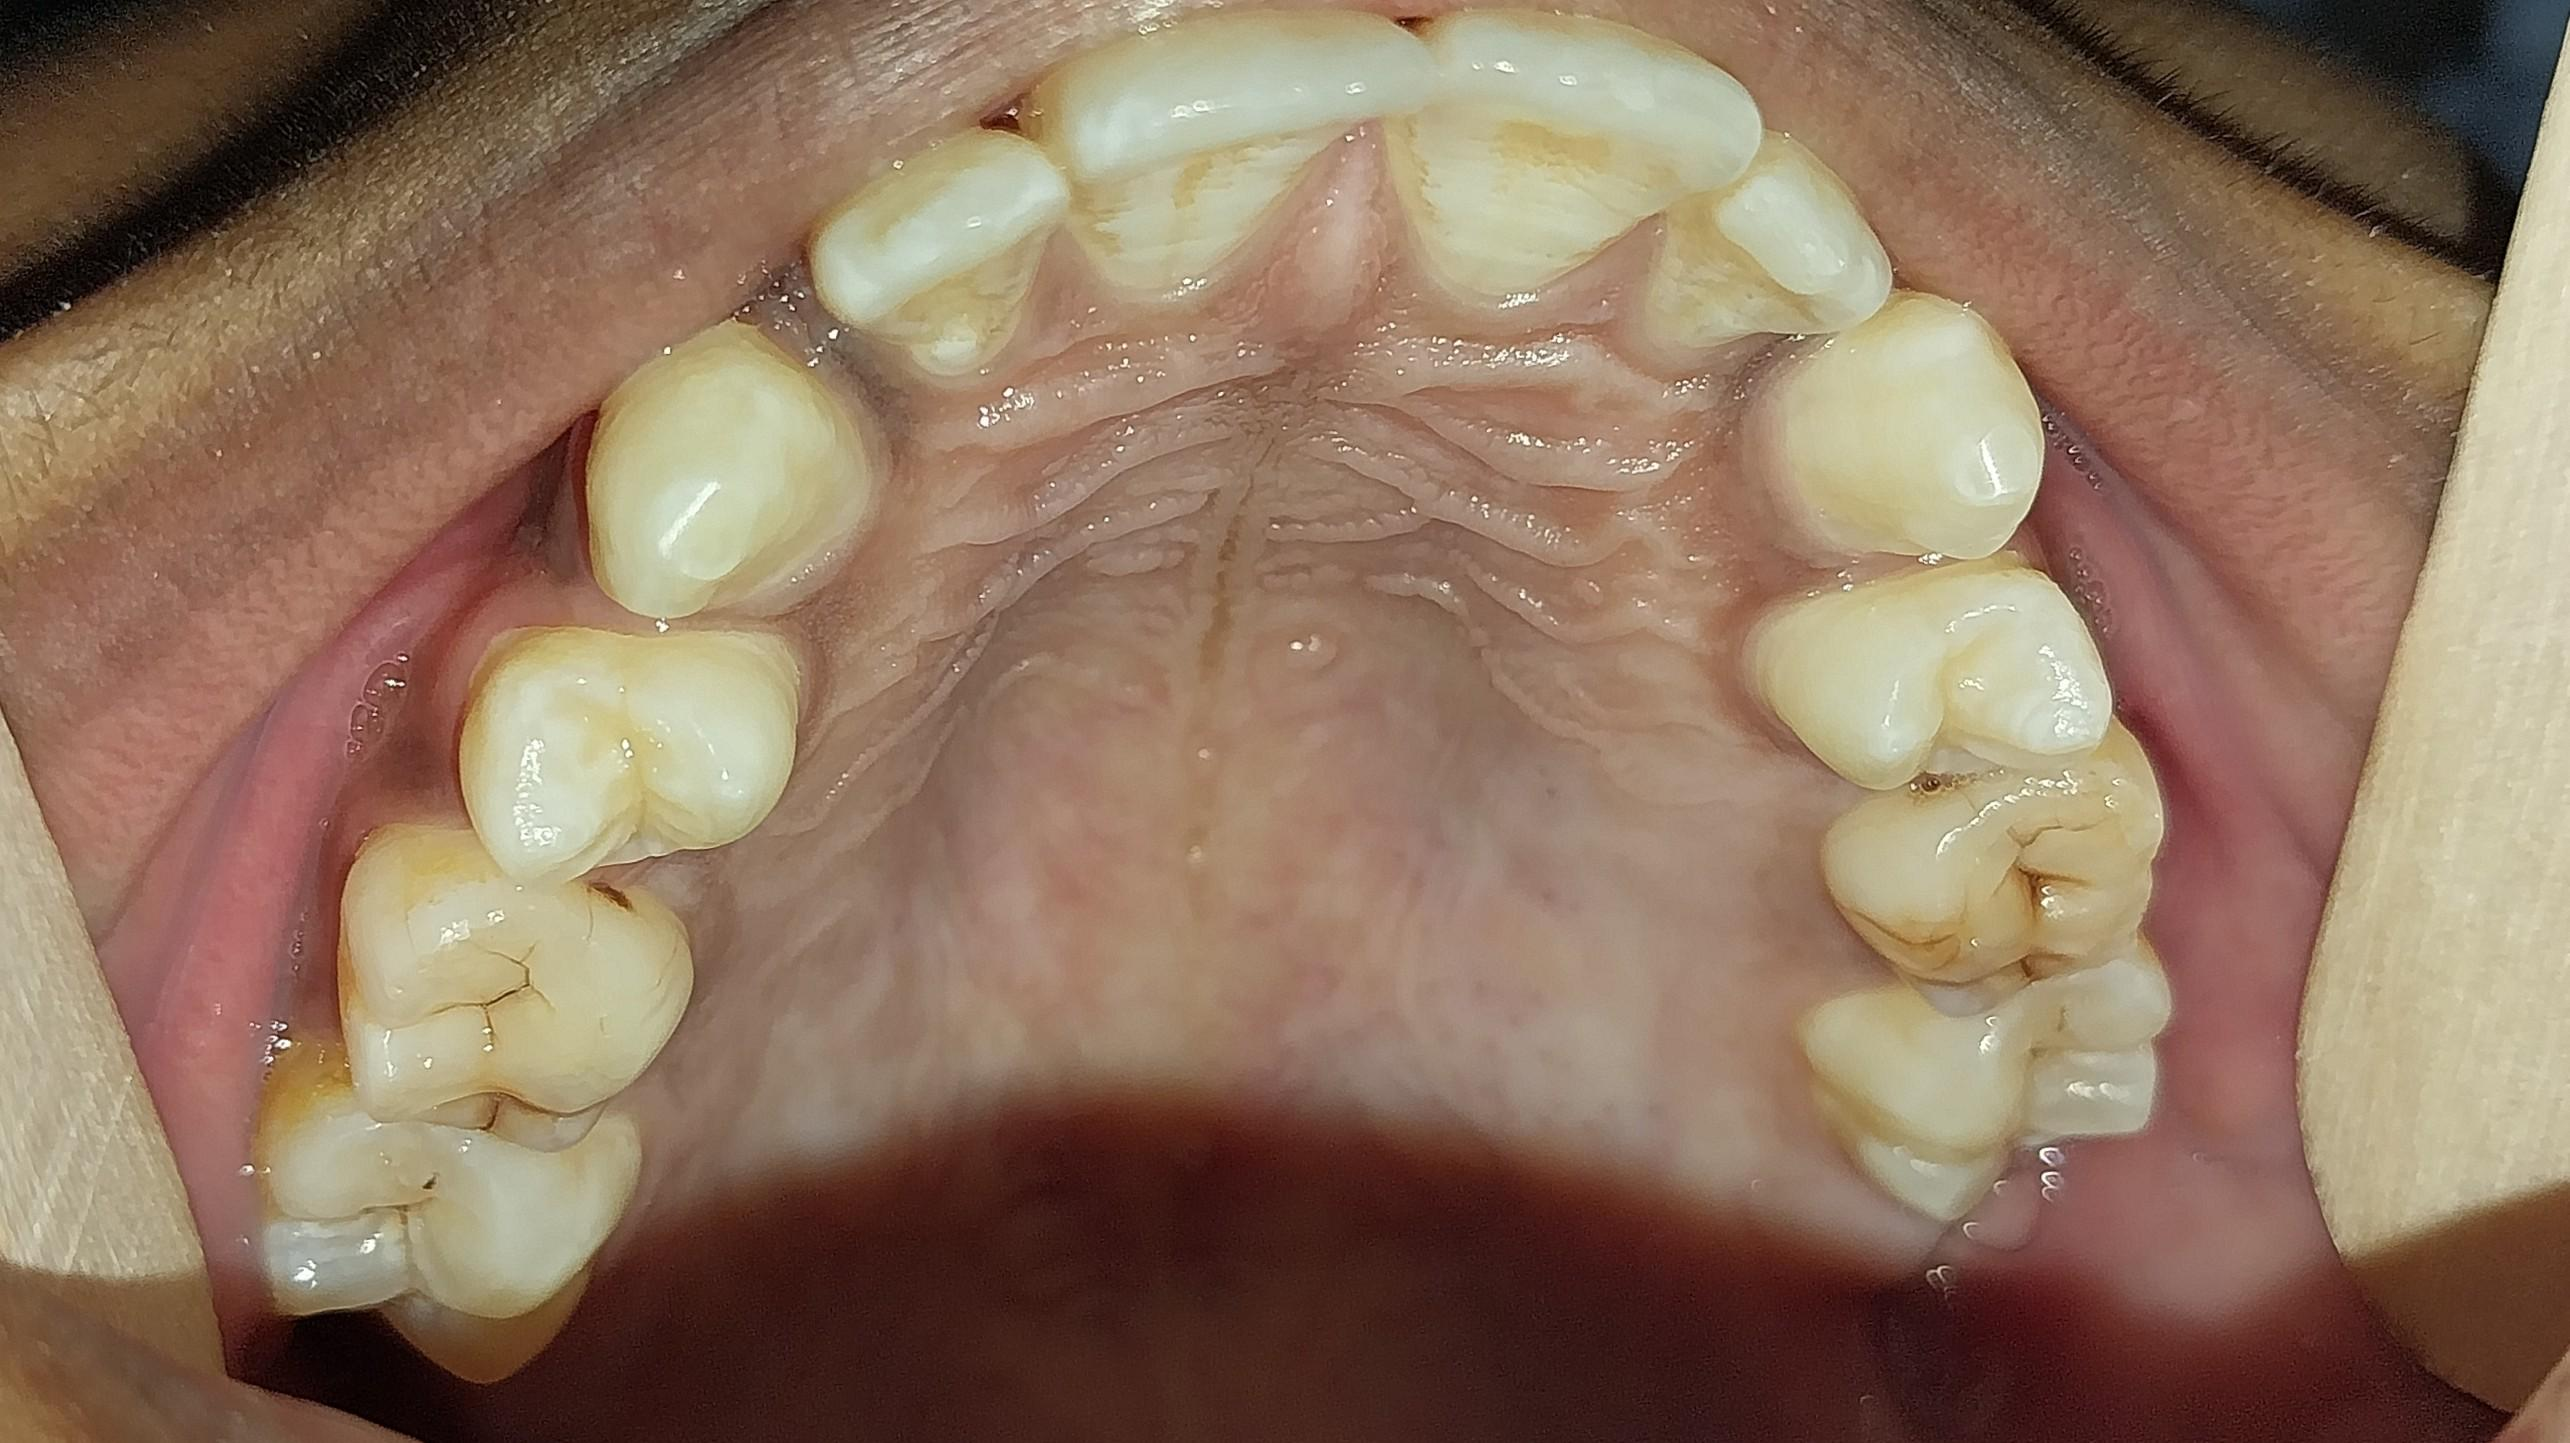d: (331, 843, 682, 1152), (1829, 743, 2168, 1017)
